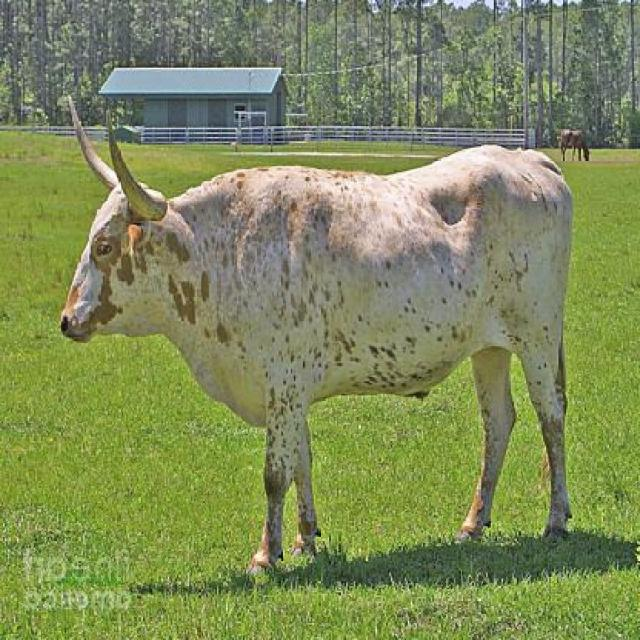Cow: (58, 95, 570, 588)
